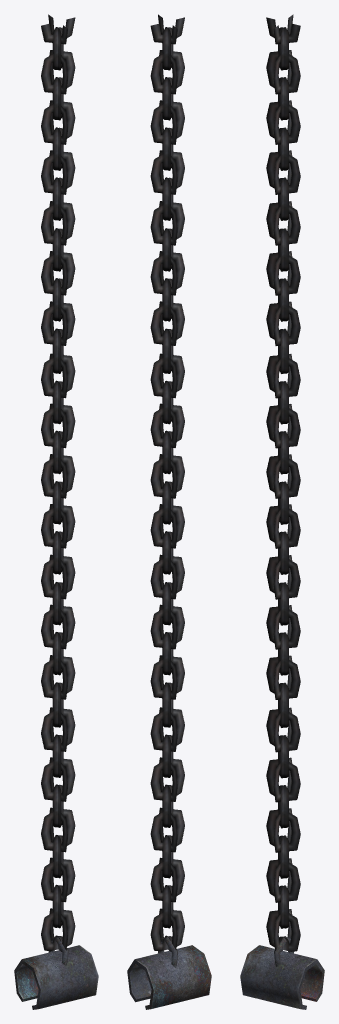
File: Chain_1.FBX
The picture shows the model from 3 angles, left to right: view 1: azimuth 30°, elevation 25°; view 2: azimuth 210°, elevation 25°; view 3: azimuth 330°, elevation 25°; orthographic projection.
Parts seen in each view (by area): view 1: Plane01; view 2: Plane01; view 3: Plane01.
Part boxes in pixels (box(x1,y1,x2,y2)): Plane01: box(14, 14, 98, 1009); Plane01: box(127, 14, 211, 1009); Plane01: box(240, 14, 324, 1009).
Bounding box in the file's own units: 3.46 × 55.82 × 2.76.
